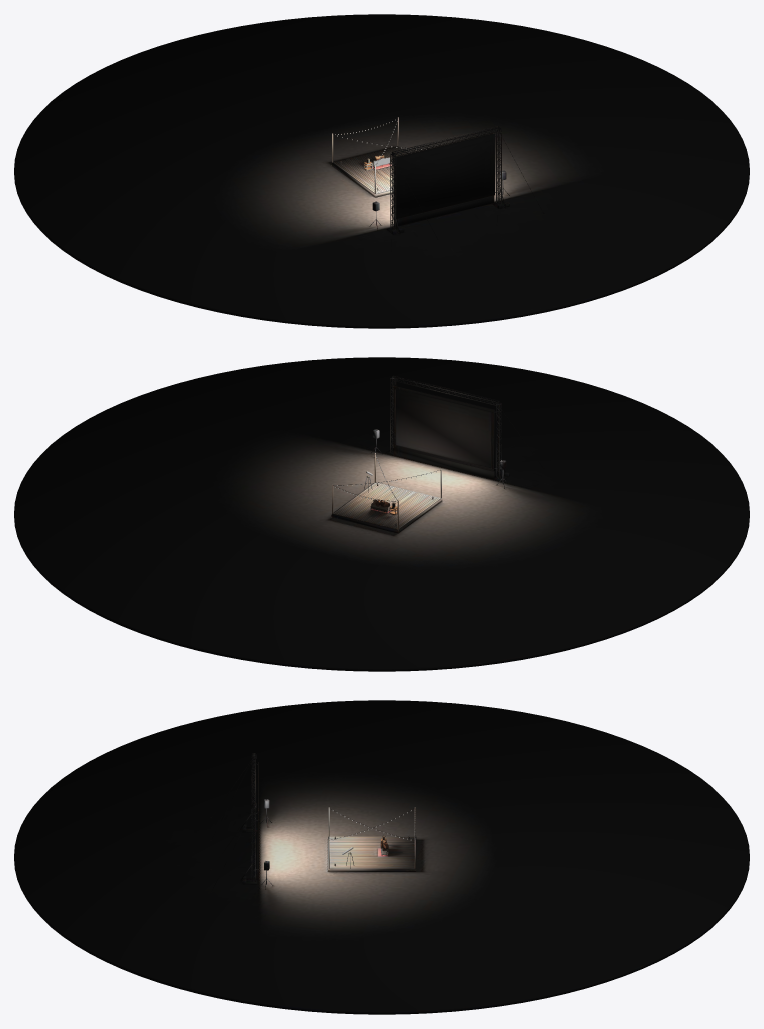
Rendered from stargaze_glow.glb.
The picture shows the model from 3 angles, top to bottom: view 1: azimuth 30°, elevation 25°; view 2: azimuth 150°, elevation 25°; view 3: azimuth 270°, elevation 25°; orthographic projection.
Parts seen in each view (by area): view 1: stargaze; view 2: stargaze; view 3: stargaze.
Boxes of the visible parts, x1,y1,x2,y2 form: stargaze: (14, 14, 749, 328); stargaze: (14, 357, 749, 671); stargaze: (14, 700, 749, 1014).
Size of the model in its own units: 60 by 7.24 by 60.
Materials: 2 (2 with a texture image).
